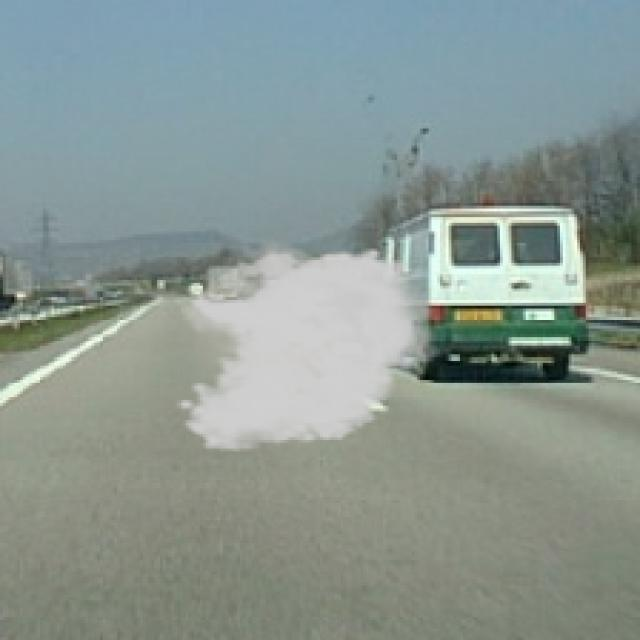smoke: (174, 235, 449, 454)
